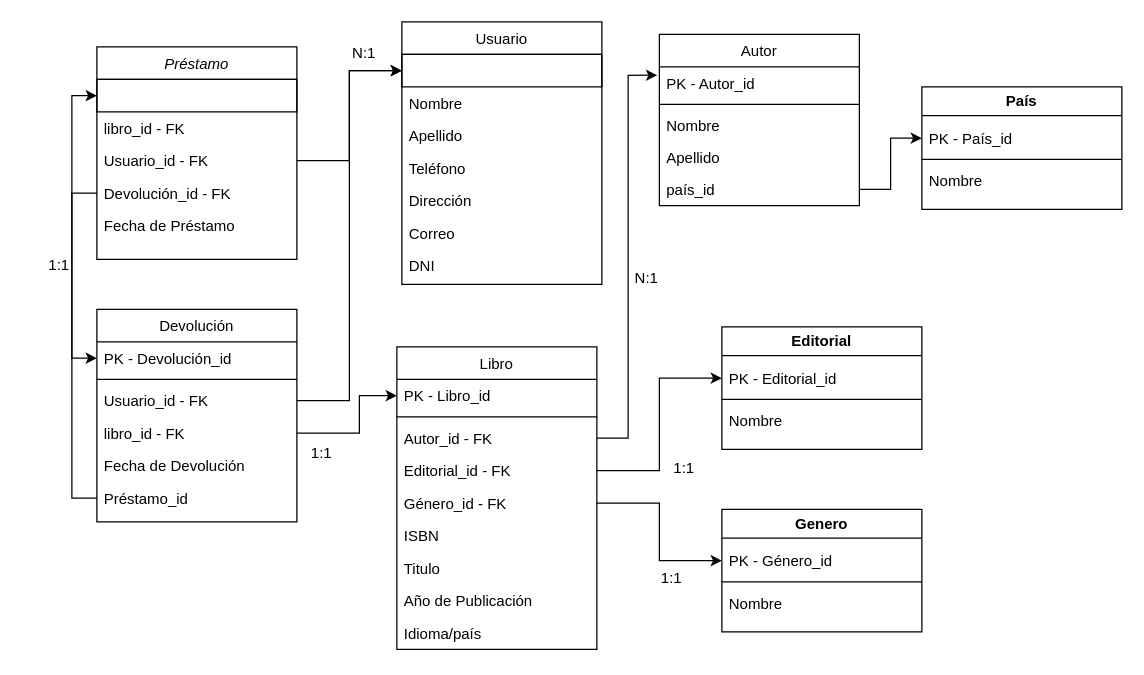
The diagram is 1144 pixels wide and 675 high, and some of its shapes have lost their labels. The shapes that lost their labels are listed below. From the top down, each one's centre as x and y in pixels, then its label:
At [501,70]: "PK - Usuario_id".
At [196,95]: "PK - Préstamo_id".
